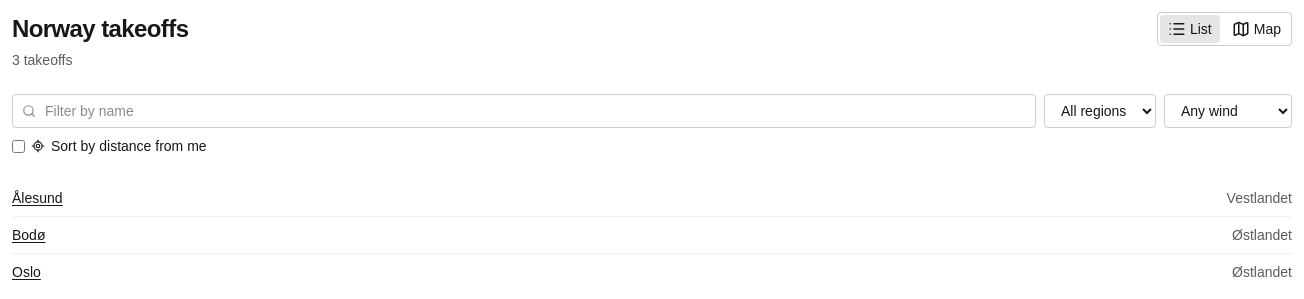
Test: TakeoffDirectory — input-driven filtering › narrows the rendered rows as the user types, folding Norwegian characters along the way
expect the link "Bodø" is shown: met, box [12,225,46,245]
expect the link "Ålesund" is shown: met, box [12,188,63,208]
Type "bodo" into the field named "takeoff name". click: (524, 111)
box: [12,94,1036,128]
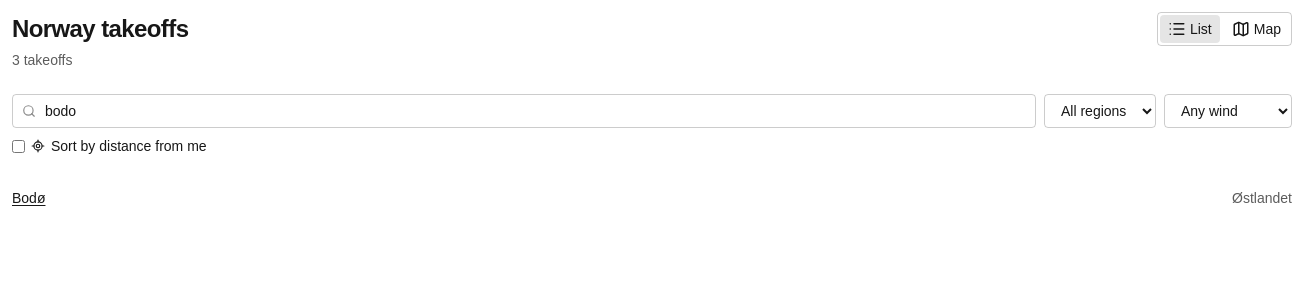
expect the link "Bodø" is shown: met, box [12,188,46,208]
expect the link "Oslo" is gone: met
expect the link "Ålesund" is gone: met
